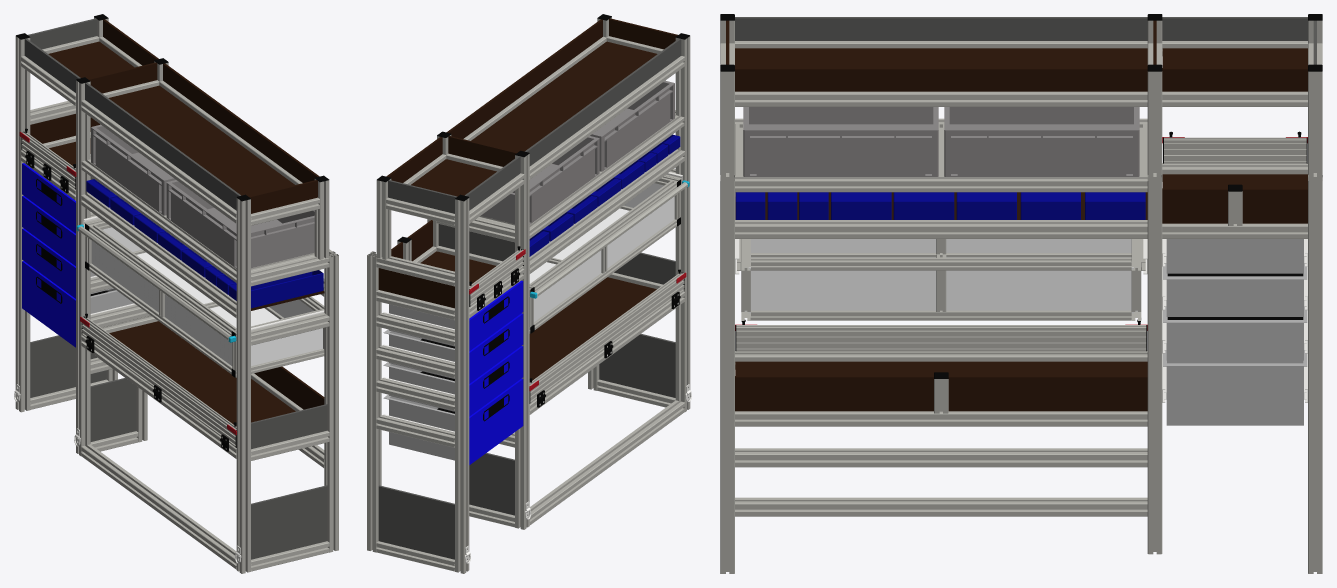
The picture shows the model from 3 angles, left to right: view 1: azimuth 30°, elevation 25°; view 2: azimuth 150°, elevation 25°; view 3: azimuth 270°, elevation 25°; orthographic projection. The views are drawn at different scales.
Parts seen in each view (by area): view 1: n0, n16, n26, n18, n24, n14, n12, n8, n10, n42, n2, n28 (+4 smaller); view 2: n0, n16, n14, n24, n18, n26, n10, n12, n8, n2, n30, n32 (+2 smaller); view 3: n0, n16, n24, n26, n18, n14, n10, n12, n8, n2, n34, n28 (+6 smaller).
Part boxes in pixels (x1,y1,x2,y2): n0: (14,14,338,573); n16: (76,218,324,377); n26: (166,180,314,268); n18: (80,316,236,447); n24: (91,124,175,215); n14: (22,261,133,347); n12: (22,228,113,298); n8: (22,163,75,233); n10: (22,196,75,265); n42: (229,270,323,308); n2: (19,131,76,189); n28: (86,179,117,207); n0: (367,14,691,573); n16: (529,174,689,333); n14: (383,378,523,464); n24: (481,136,599,224); n18: (529,272,686,403); n26: (590,80,674,171); n10: (383,313,523,383); n12: (383,346,523,416); n8: (389,280,523,350); n2: (469,249,525,306); n30: (541,213,573,241); n32: (566,195,597,223); n0: (720,14,1322,573); n16: (737,239,1145,320); n24: (944,107,1139,176); n26: (743,107,938,176); n18: (735,324,1147,351); n14: (1163,350,1307,425); n10: (1163,263,1307,316); n12: (1163,307,1307,360); n8: (1164,239,1306,273); n2: (1162,137,1307,163); n34: (893,192,954,219); n28: (1085,192,1145,219).
Bounding box in the file's own units: 485 × 1683 × 1849.
